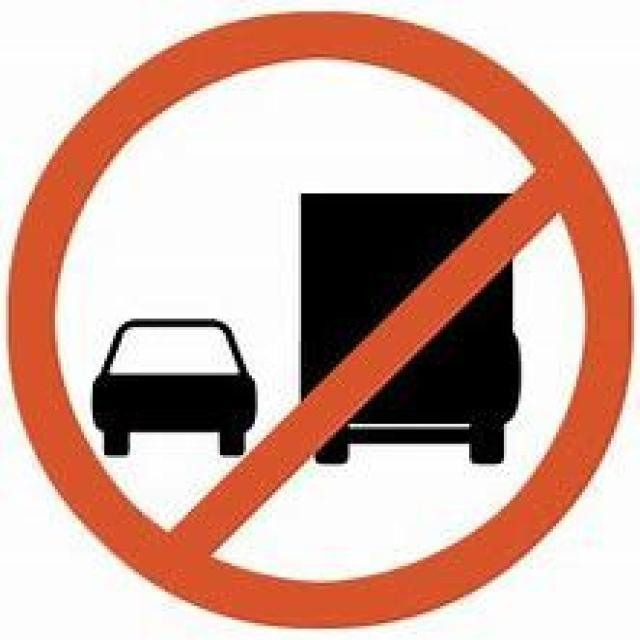overtaking prohibited: (13, 13, 621, 624)
